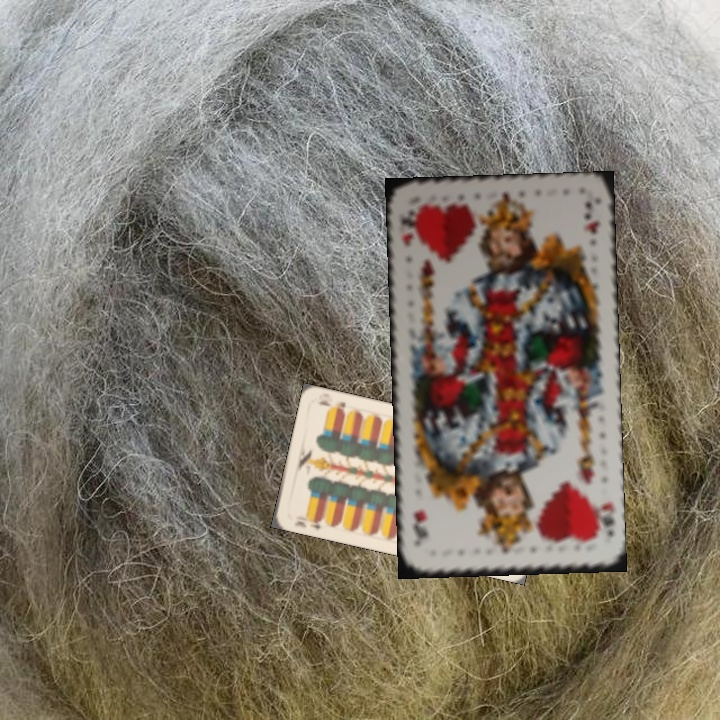E10: (290, 512, 326, 532)
HK: (590, 498, 616, 542), (395, 206, 419, 250)
